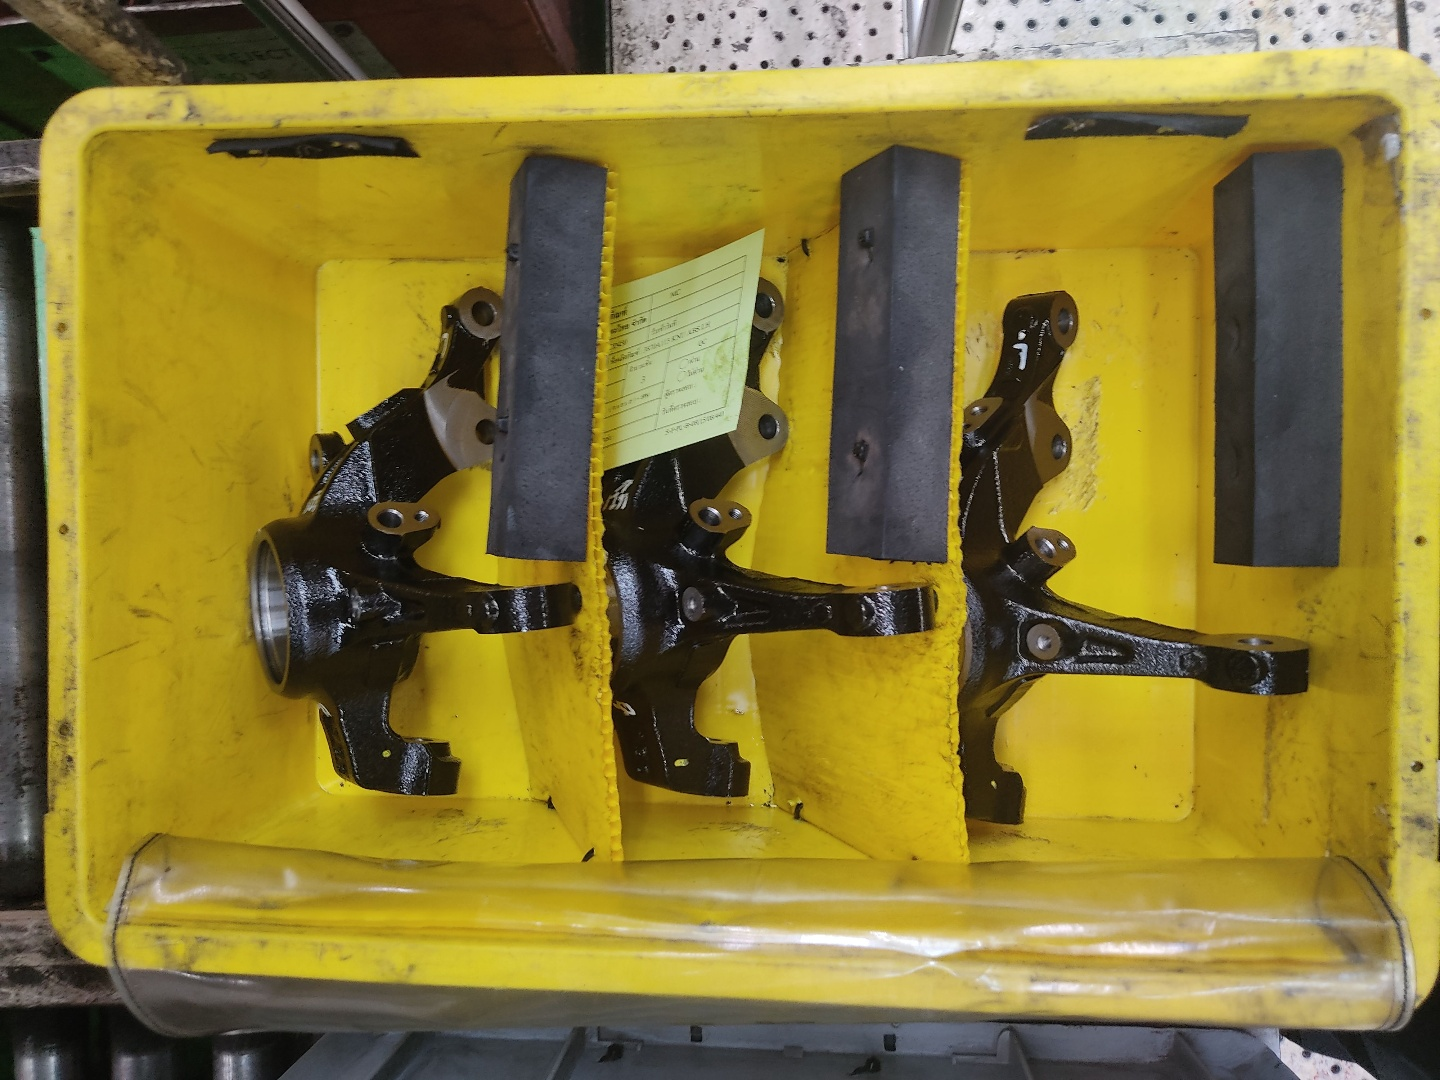abs-lh: (943, 278, 1322, 832), (237, 275, 592, 803), (596, 275, 943, 809)
